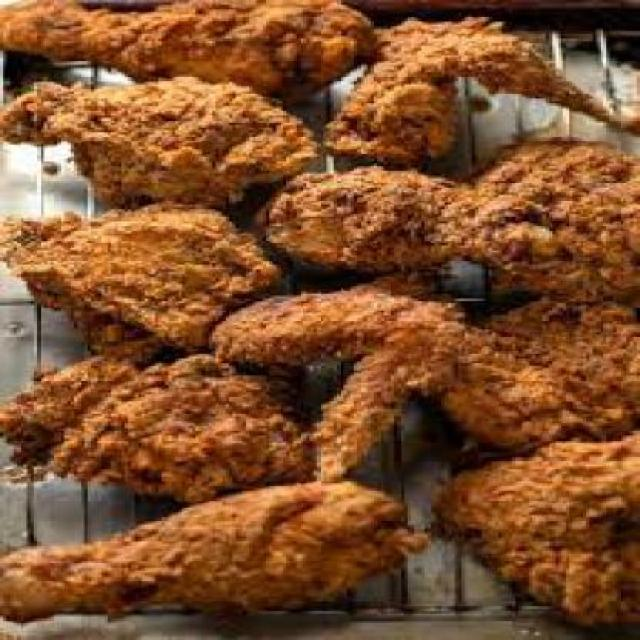Frango: (14, 4, 637, 638)
